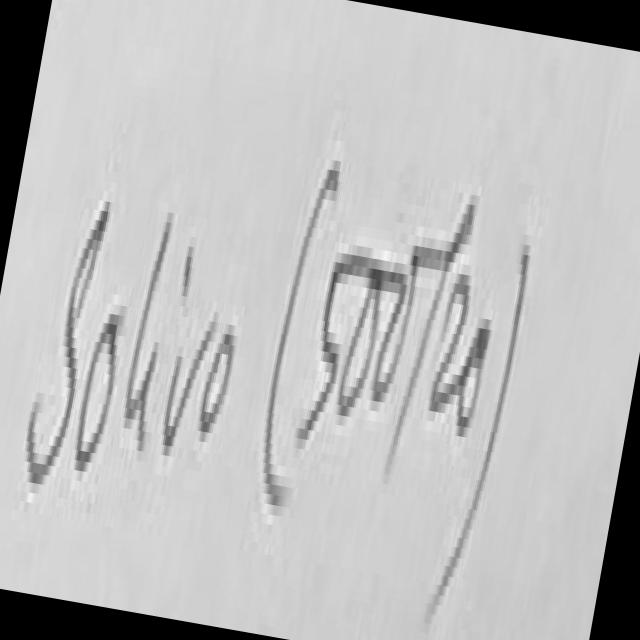0: (341, 268, 385, 415), (374, 263, 418, 406), (458, 320, 490, 450)
2: (431, 274, 470, 408)
5: (299, 257, 356, 435)
S: (28, 201, 108, 479)
i: (125, 342, 160, 461), (181, 246, 190, 286)
l: (124, 212, 169, 434)
o: (75, 315, 117, 467), (201, 324, 231, 431)
v: (164, 322, 214, 450)
